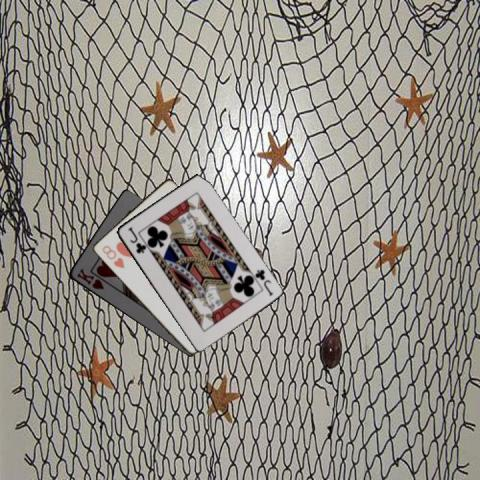8h: (99, 242, 126, 270)
Jc: (251, 266, 275, 297), (125, 224, 146, 255)
Kh: (74, 265, 106, 291)
